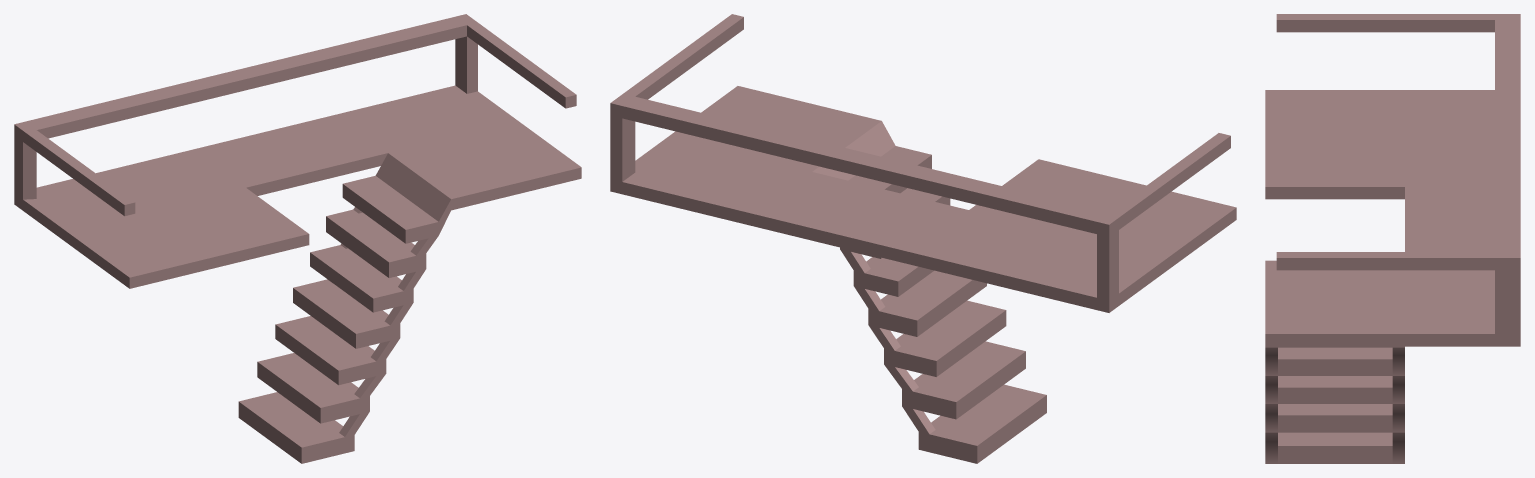
File: 2_Stairs.fbx
3 views of the same model, side by side, from view 1: azimuth 30°, elevation 25°; view 2: azimuth 150°, elevation 25°; view 3: azimuth 270°, elevation 25° (orthographic). The views are drawn at different scales.
Parts seen in each view (by area): view 1: pasted__pasted___pCube58; view 2: pasted__pasted___pCube58; view 3: pasted__pasted___pCube58.
Part boxes in pixels (box(x1,y1,x2,y2)): pasted__pasted___pCube58: box(14, 14, 581, 463); pasted__pasted___pCube58: box(610, 14, 1236, 463); pasted__pasted___pCube58: box(1265, 14, 1520, 463).
Size of the model in its own units: 6.28 by 3.95 by 2.78.
